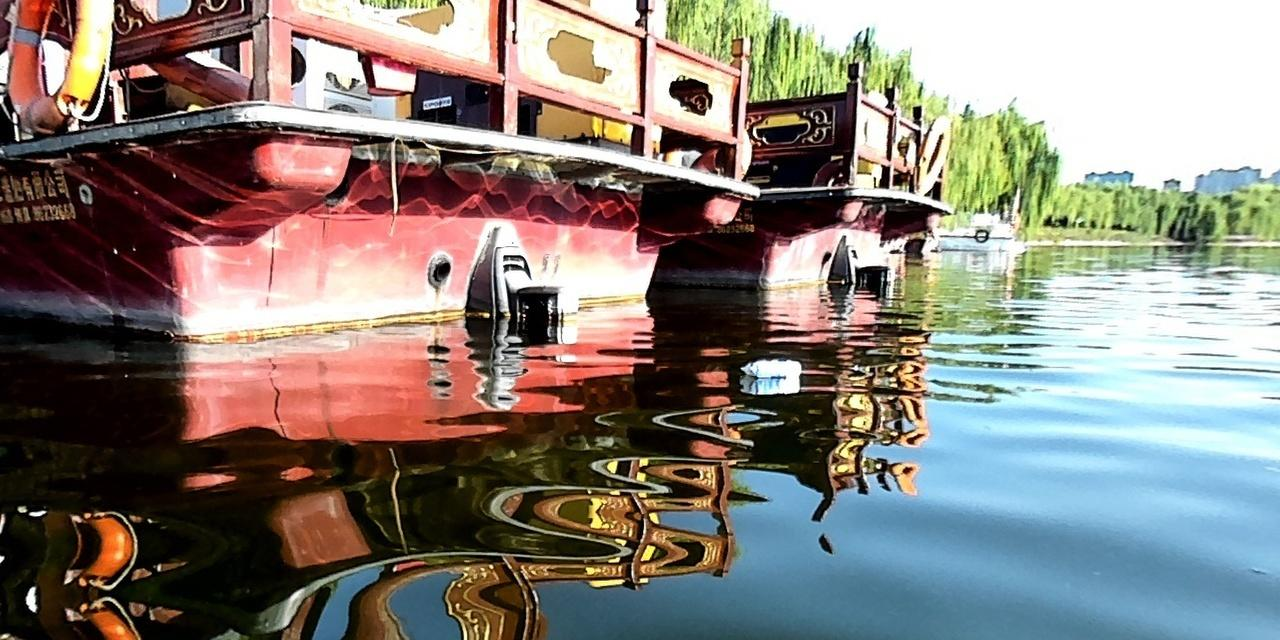bottle: (737, 354, 800, 380)
